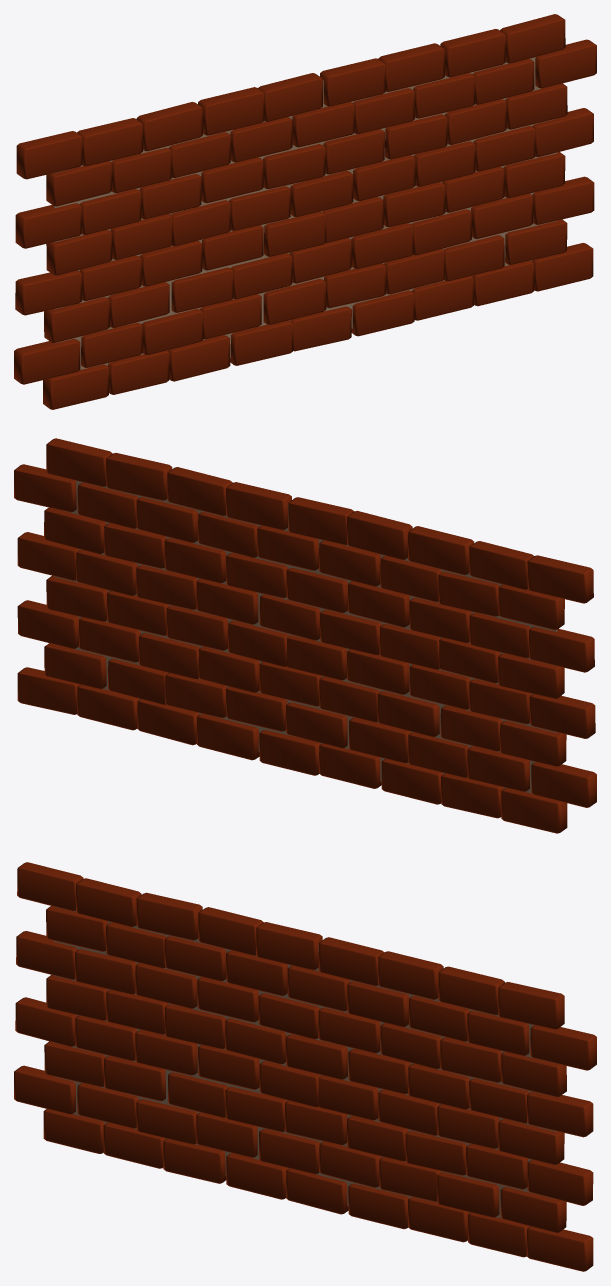
The model's file is Brickwall.glb.
3 renders of one model, top to bottom at view 1: azimuth 30°, elevation 25°; view 2: azimuth 150°, elevation 25°; view 3: azimuth 330°, elevation 25°, orthographic.
Visible parts, largest first — view 1: Root; view 2: Root; view 3: Root.
Boxes of the visible parts, x1,y1,x2,y2 form: Root: (14,14,596,409); Root: (14,438,596,833); Root: (14,862,596,1271).
Size of the model in its own units: 2.57 by 1.15 by 0.0743.
